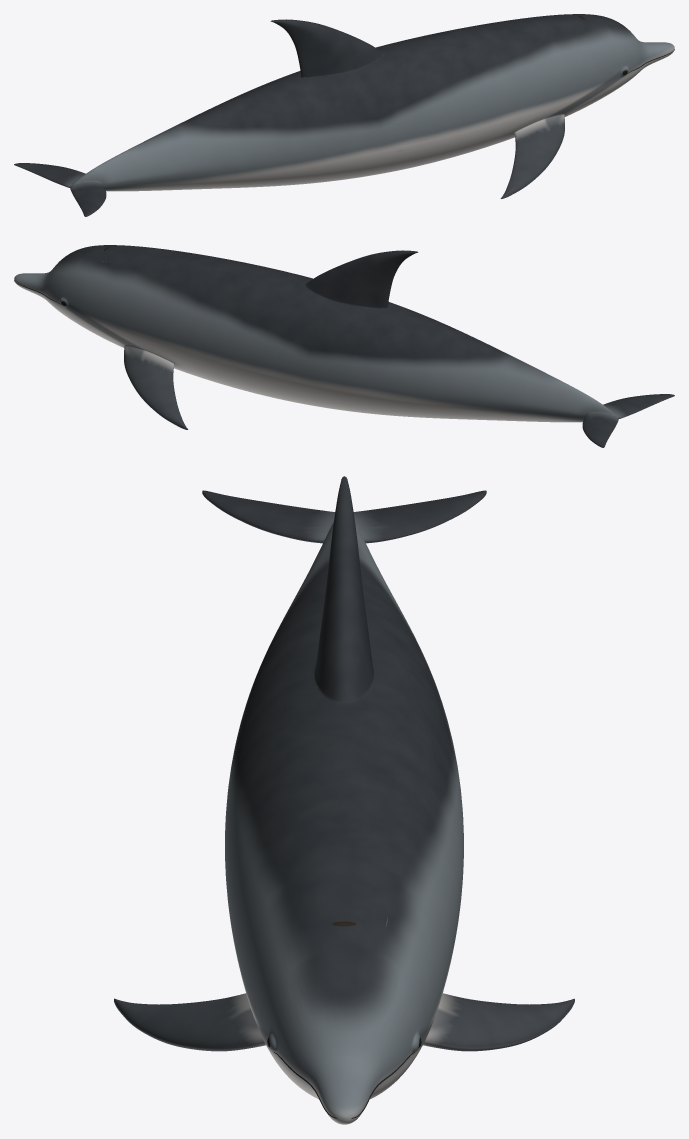
The model's file is common-bottlenose-dolphin.glb.
The picture shows the model from 3 angles, top to bottom: view 1: azimuth 30°, elevation 25°; view 2: azimuth 150°, elevation 25°; view 3: azimuth 270°, elevation 25°; orthographic projection. The views are drawn at different scales.
Parts seen in each view (by area): view 1: Continuous anatomical skin | dolphin; view 2: Continuous anatomical skin | dolphin; view 3: Continuous anatomical skin | dolphin.
Boxes of the visible parts, <box> form: Continuous anatomical skin | dolphin: <box>14,14,674,216</box>; Continuous anatomical skin | dolphin: <box>14,245,674,447</box>; Continuous anatomical skin | dolphin: <box>114,476,574,1124</box>.
Bounding box in the file's own units: 3.04 × 0.83 × 0.9713.
Materials: 4 (4 with a texture image).
